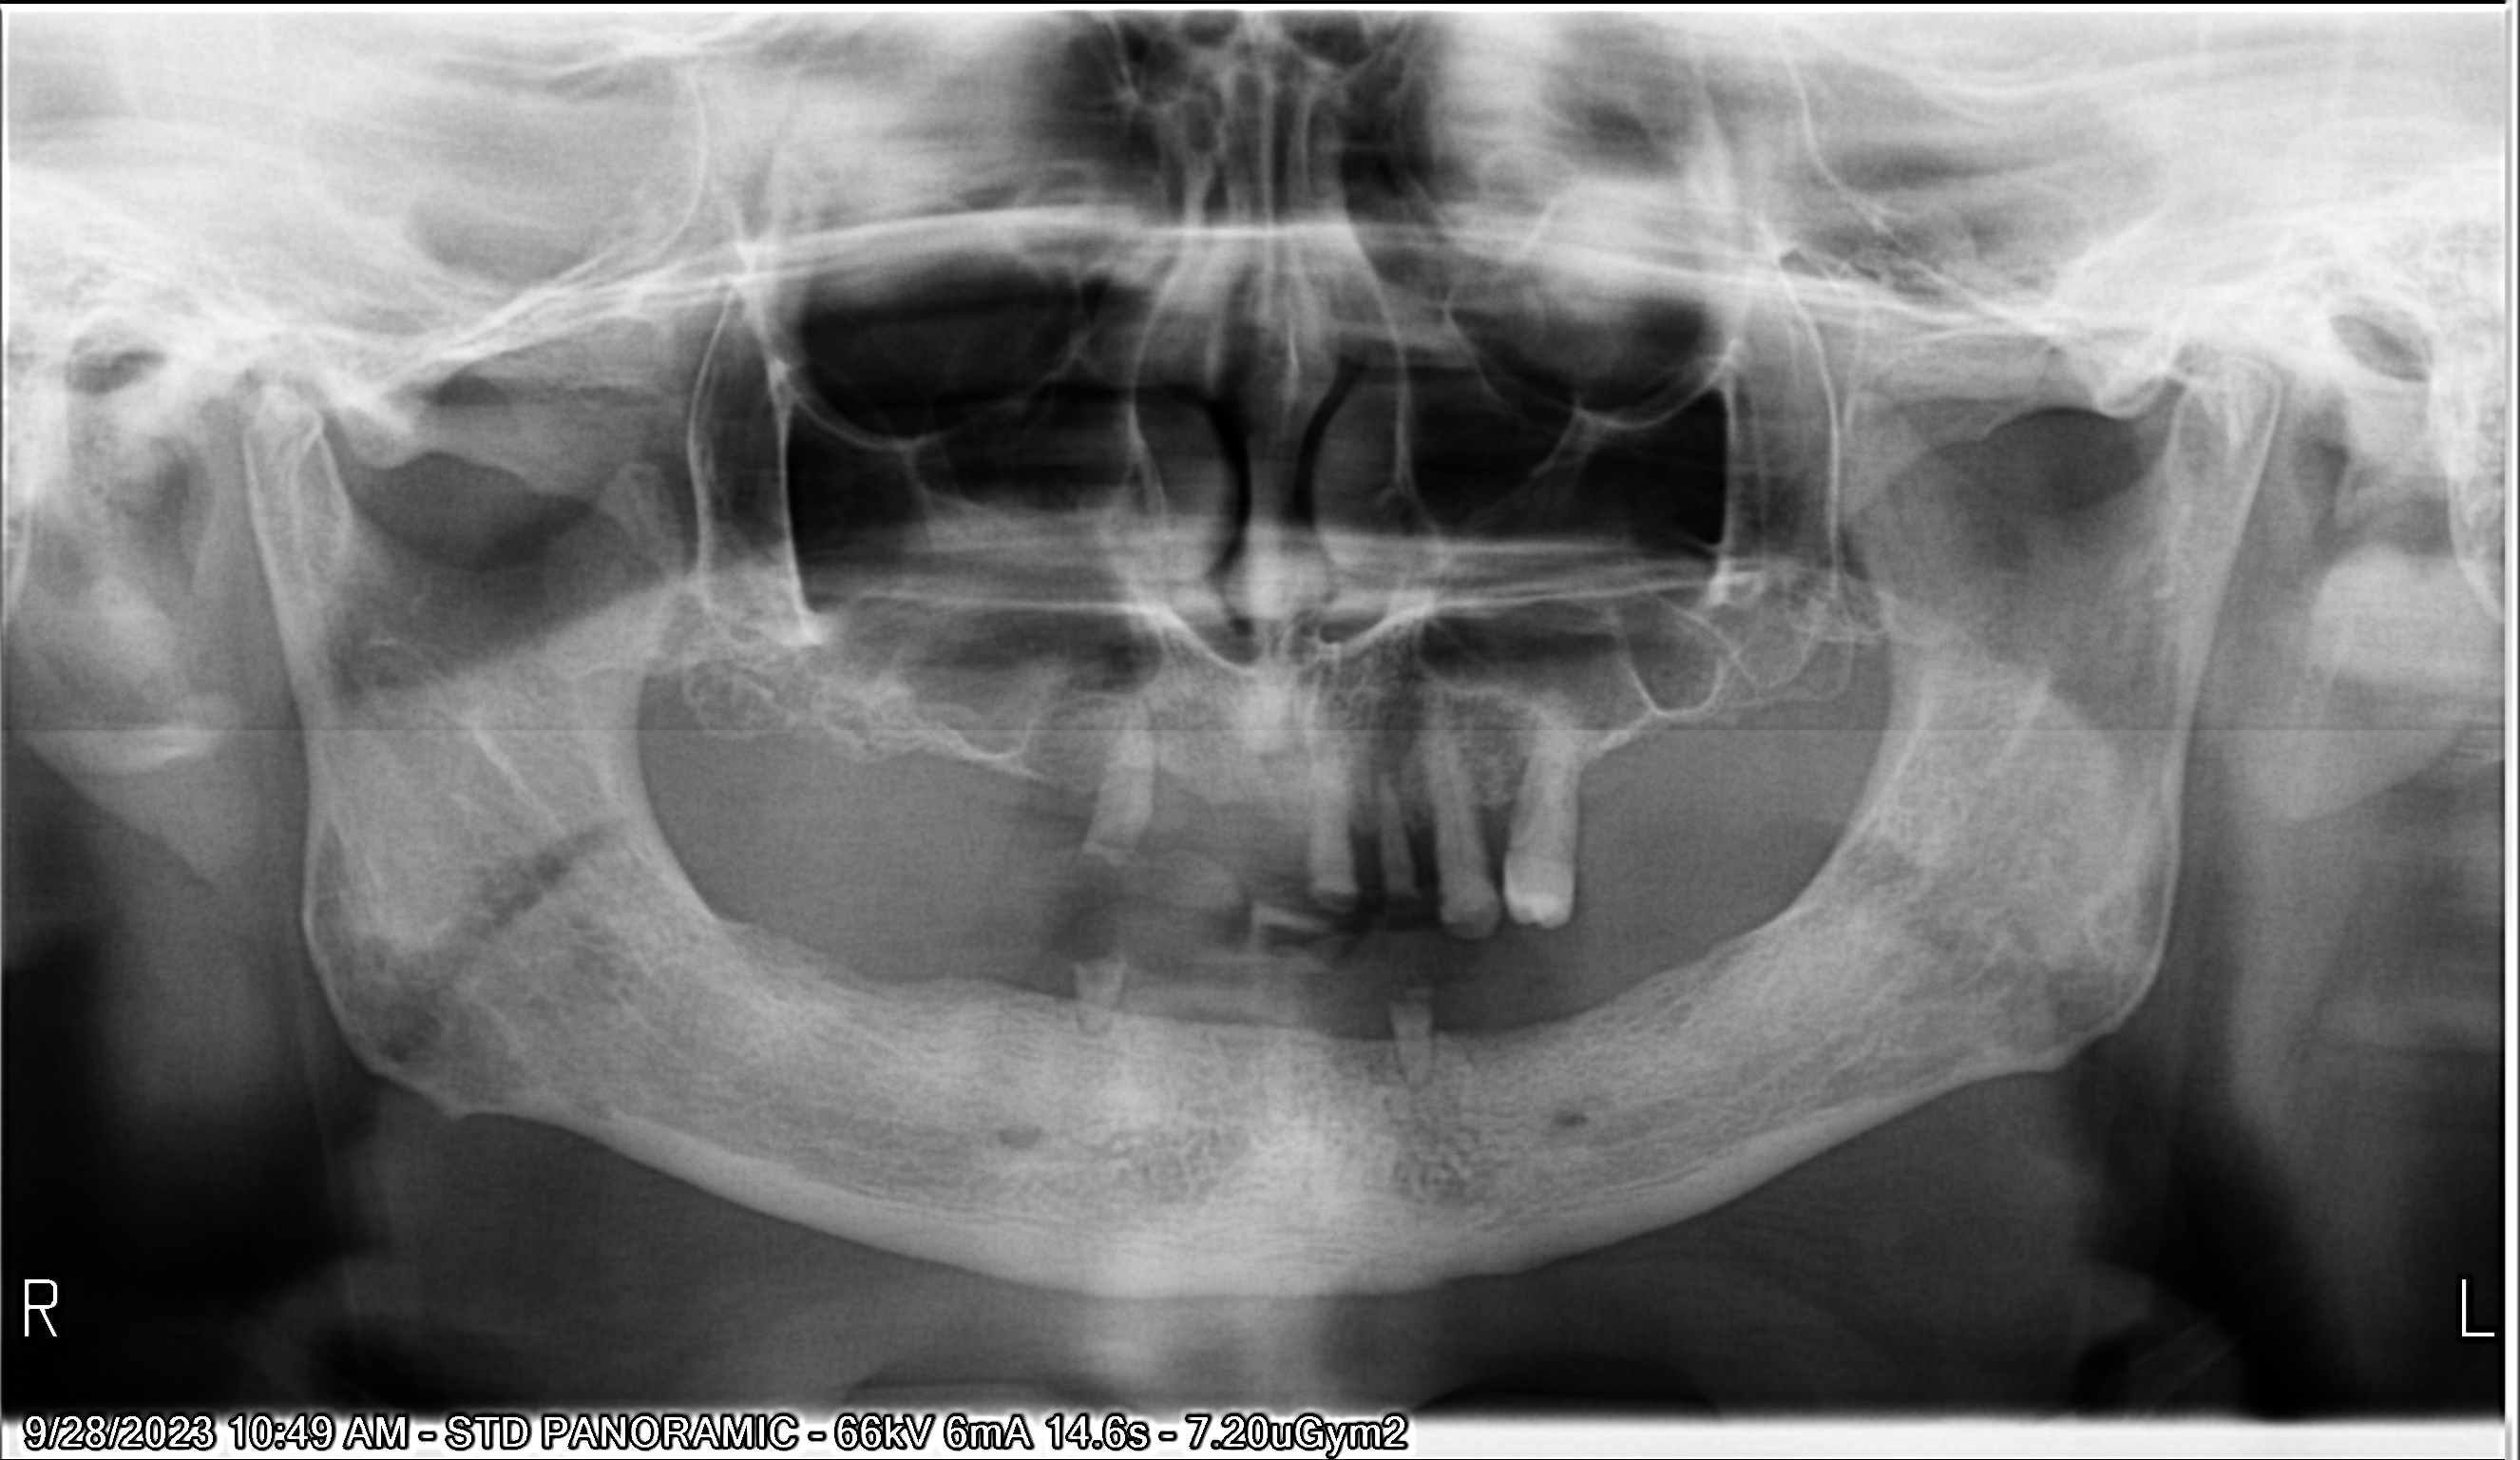API: (1362, 728, 1419, 789)
CAR: (1301, 879, 1358, 926), (1429, 873, 1466, 921)
ROT: (1360, 979, 1471, 1095), (1051, 951, 1139, 1050), (1363, 760, 1417, 904)
